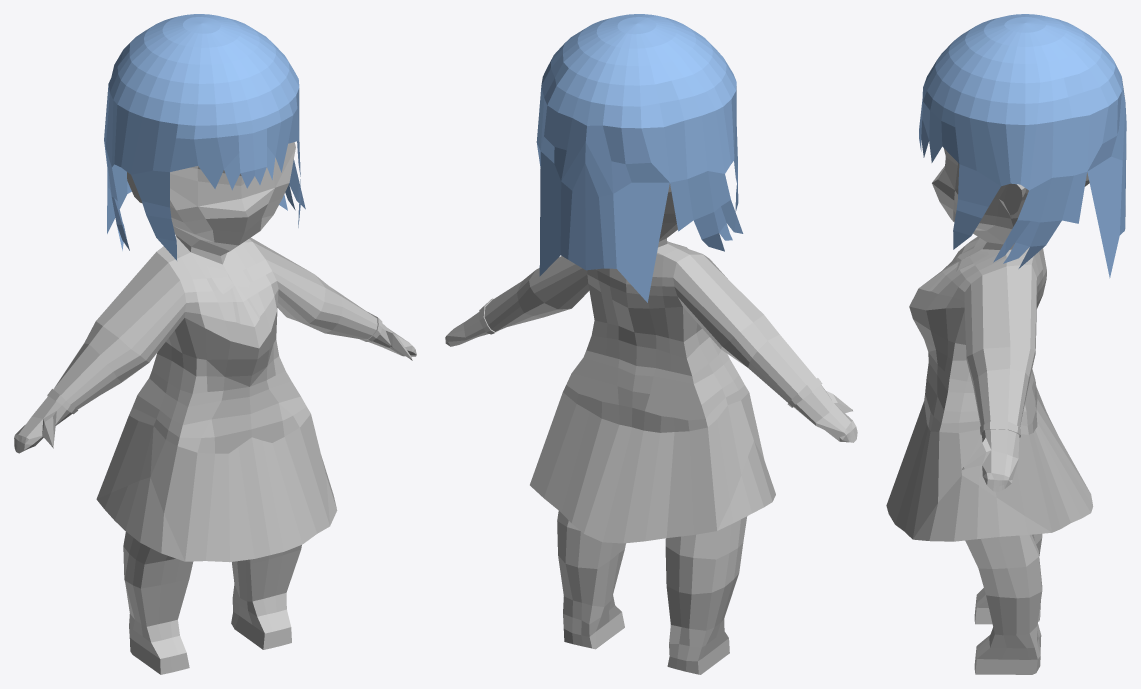
The model's file is Bookworm9Texturing.fbx.
3 renders of one model, left to right at view 1: azimuth 30°, elevation 25°; view 2: azimuth 150°, elevation 25°; view 3: azimuth 270°, elevation 25°, orthographic. The views are drawn at different scales.
Parts seen in each view (by area): view 1: Cube, rambut; view 2: Cube, rambut; view 3: Cube, rambut.
Part boxes in pixels (<box>): Cube: <box>14,142,416,674</box>; rambut: <box>104,14,305,260</box>; Cube: <box>445,183,857,674</box>; rambut: <box>536,14,743,302</box>; Cube: <box>886,148,1093,674</box>; rambut: <box>919,14,1126,278</box>.
Bounding box in the file's own units: 1176 × 1748 × 614.
